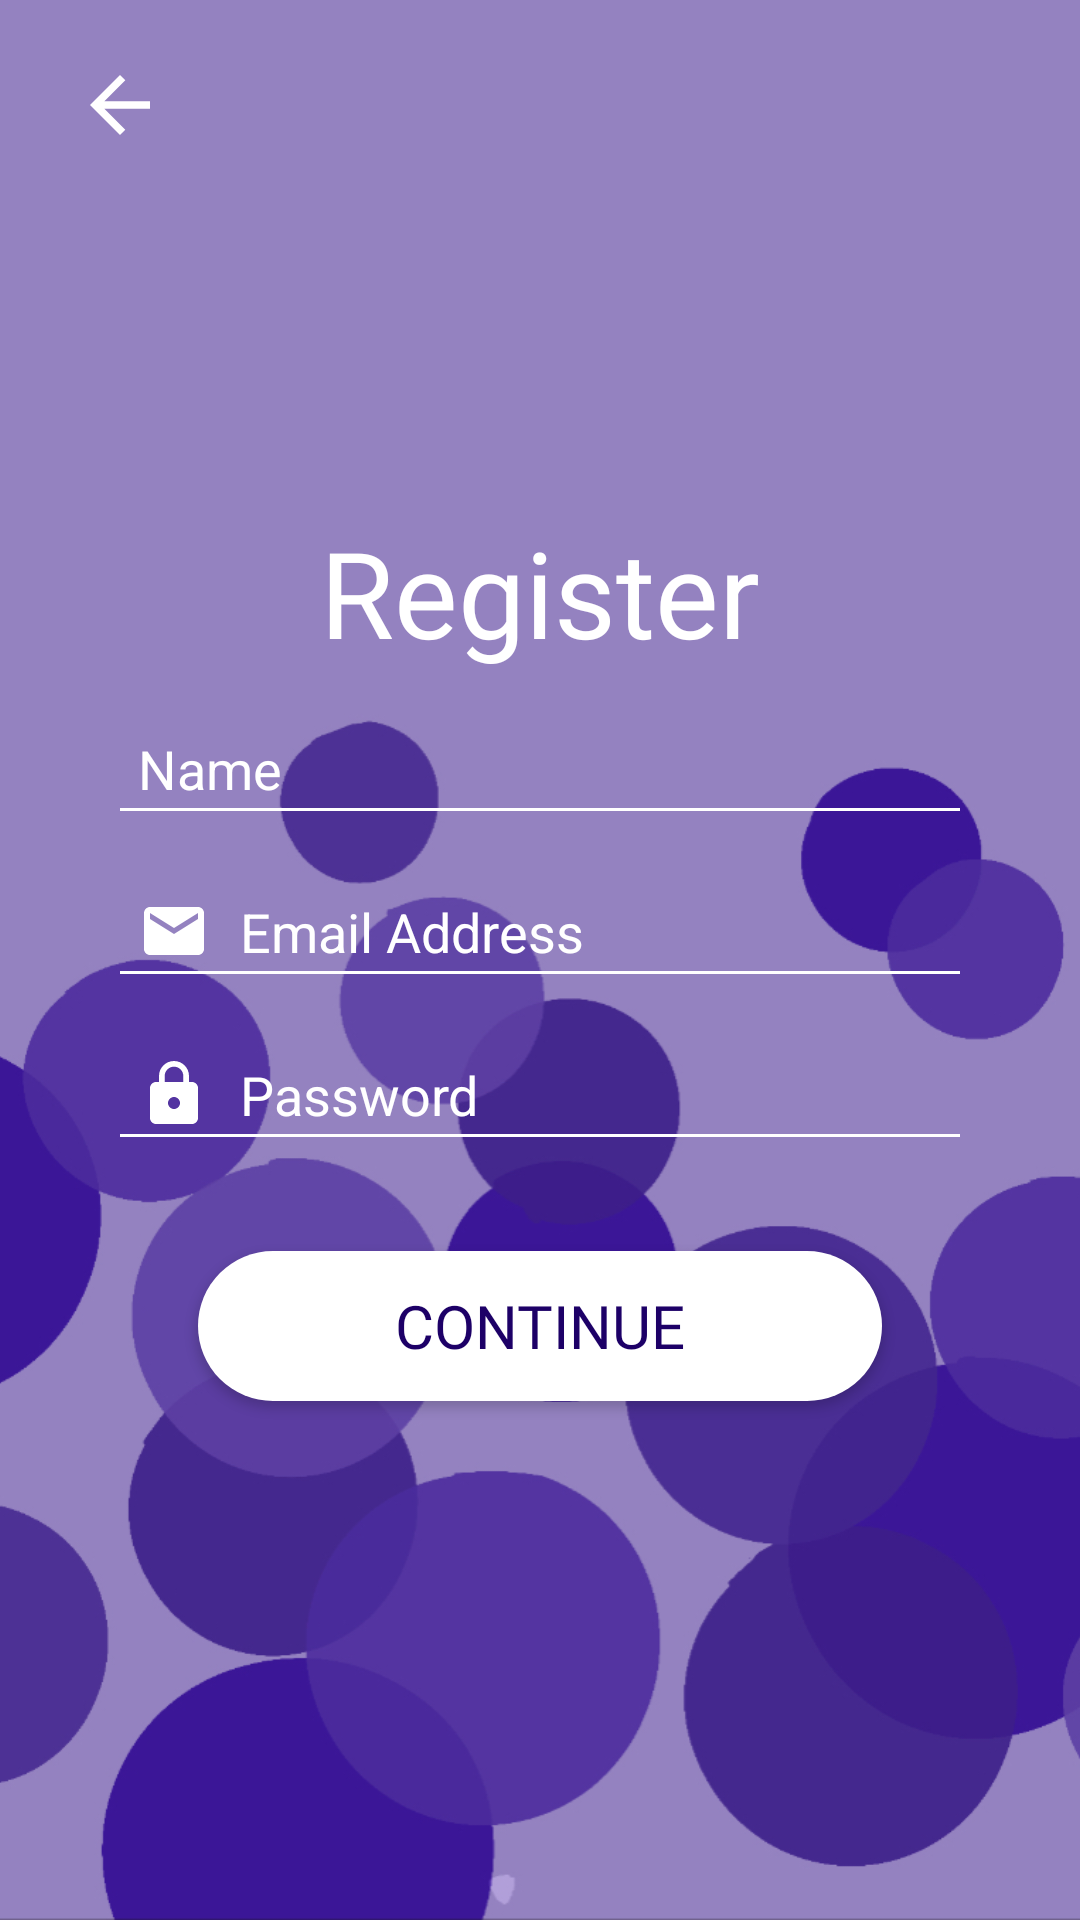

Icon bounding boxes for this 1080*1920 phone screenshot, format (x1, y1, x2, y2):
back: (90, 75, 150, 135)
